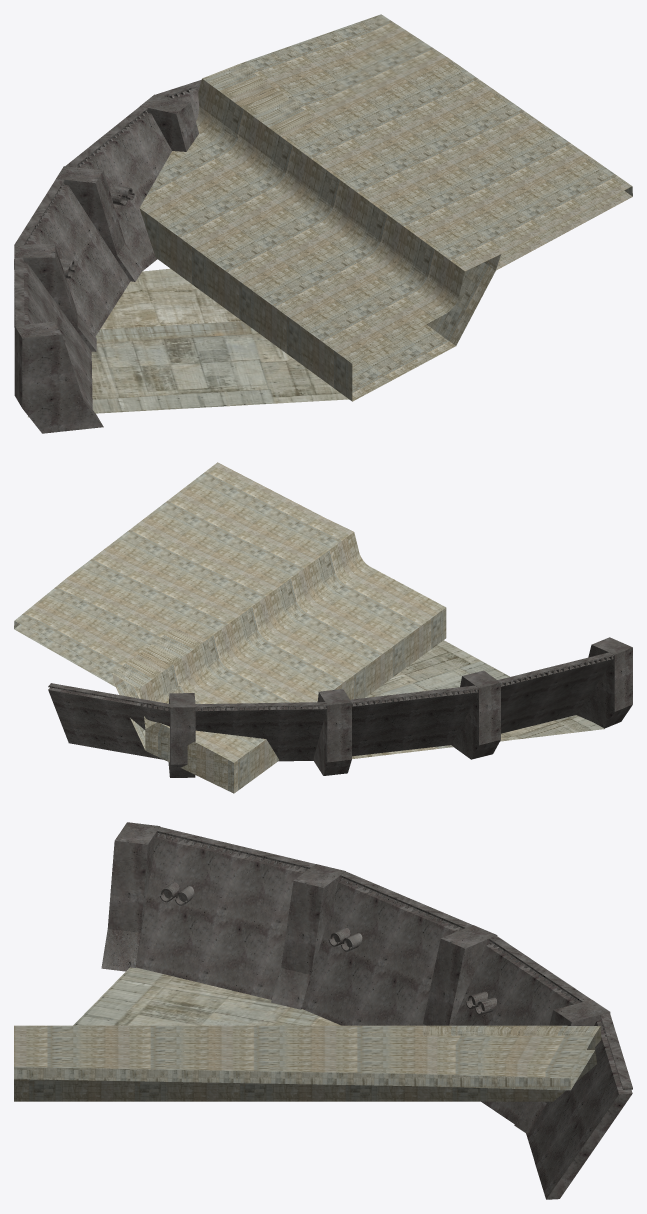
File: SM_Scene_A_Blockout09.fbx
3 renders of one model, top to bottom at view 1: azimuth 30°, elevation 25°; view 2: azimuth 150°, elevation 25°; view 3: azimuth 270°, elevation 25°, orthographic. The views are drawn at different scales.
Parts seen in each view (by area): view 1: SM_Scene_A_Blockout09; view 2: SM_Scene_A_Blockout09; view 3: SM_Scene_A_Blockout09.
Boxes of the visible parts, bbox=[...] form: SM_Scene_A_Blockout09: bbox=[14, 14, 632, 433]; SM_Scene_A_Blockout09: bbox=[14, 462, 632, 793]; SM_Scene_A_Blockout09: bbox=[14, 822, 632, 1199].
Bounding box in the file's own units: 101800 × 26114 × 87535.
